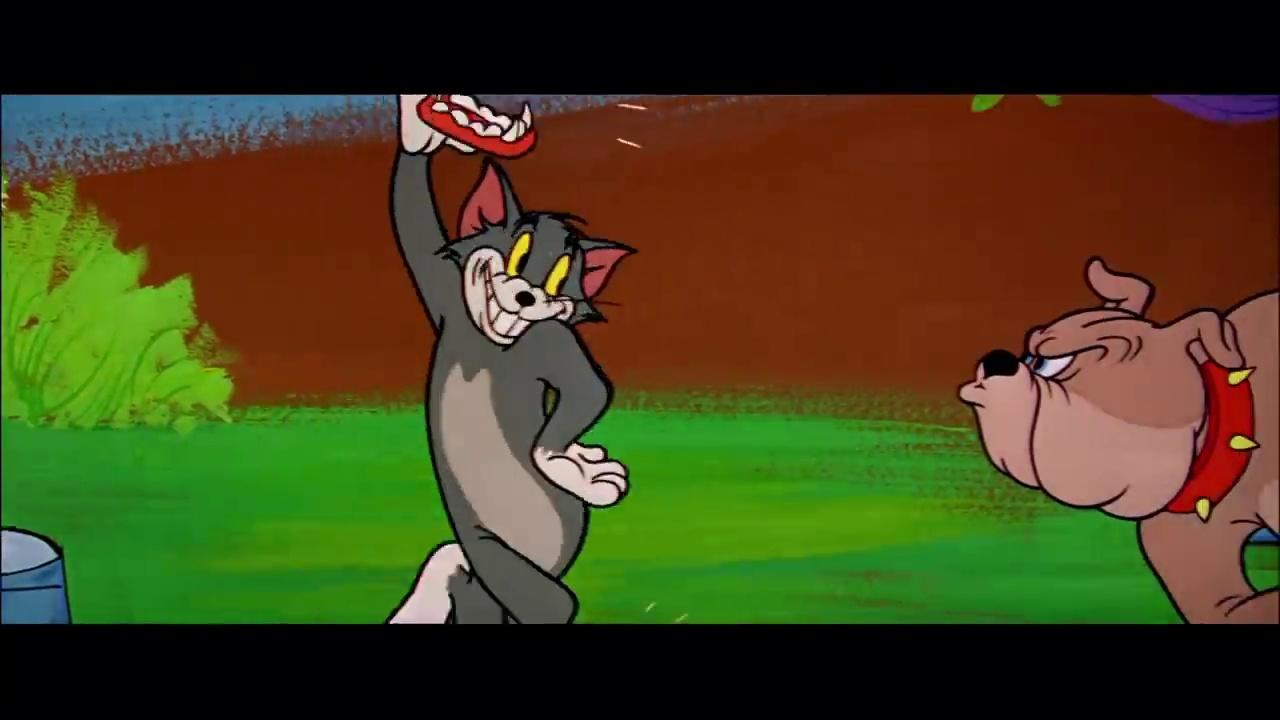Tom: (377, 96, 642, 623)
